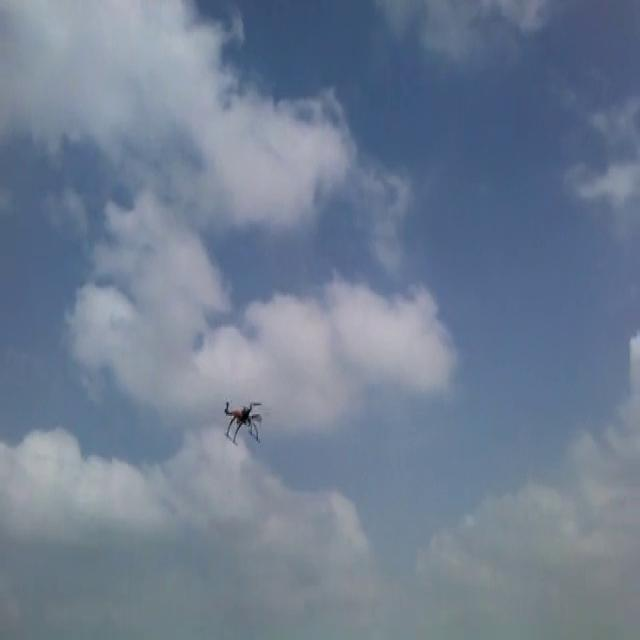drone: (221, 395, 265, 445)
